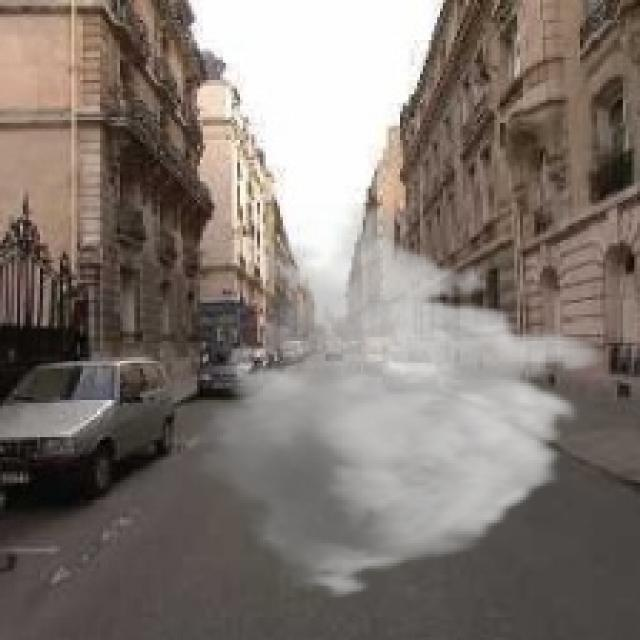Smoke: (182, 203, 608, 600)
